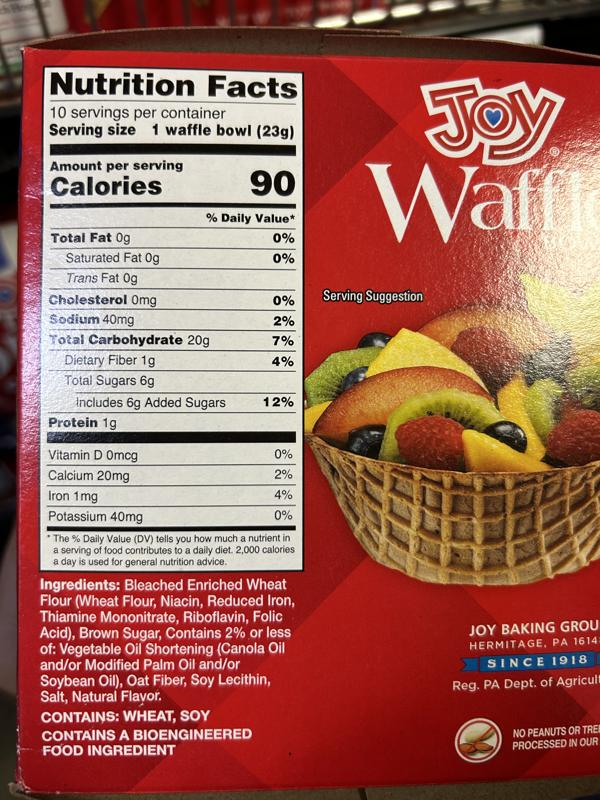ingredients: (37, 577, 295, 705)
